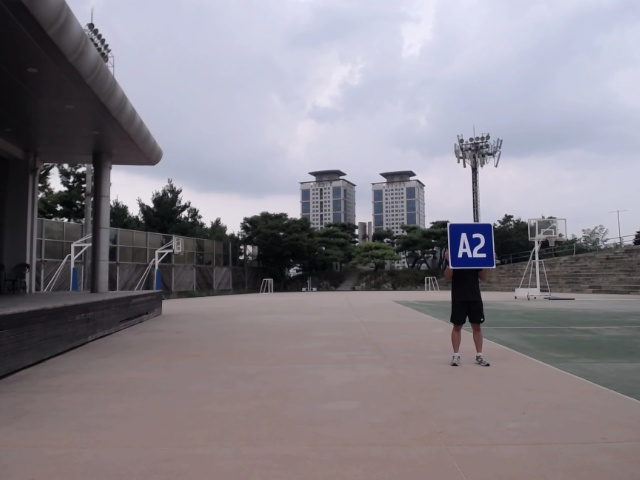delivery_a2: (449, 223, 495, 268)
